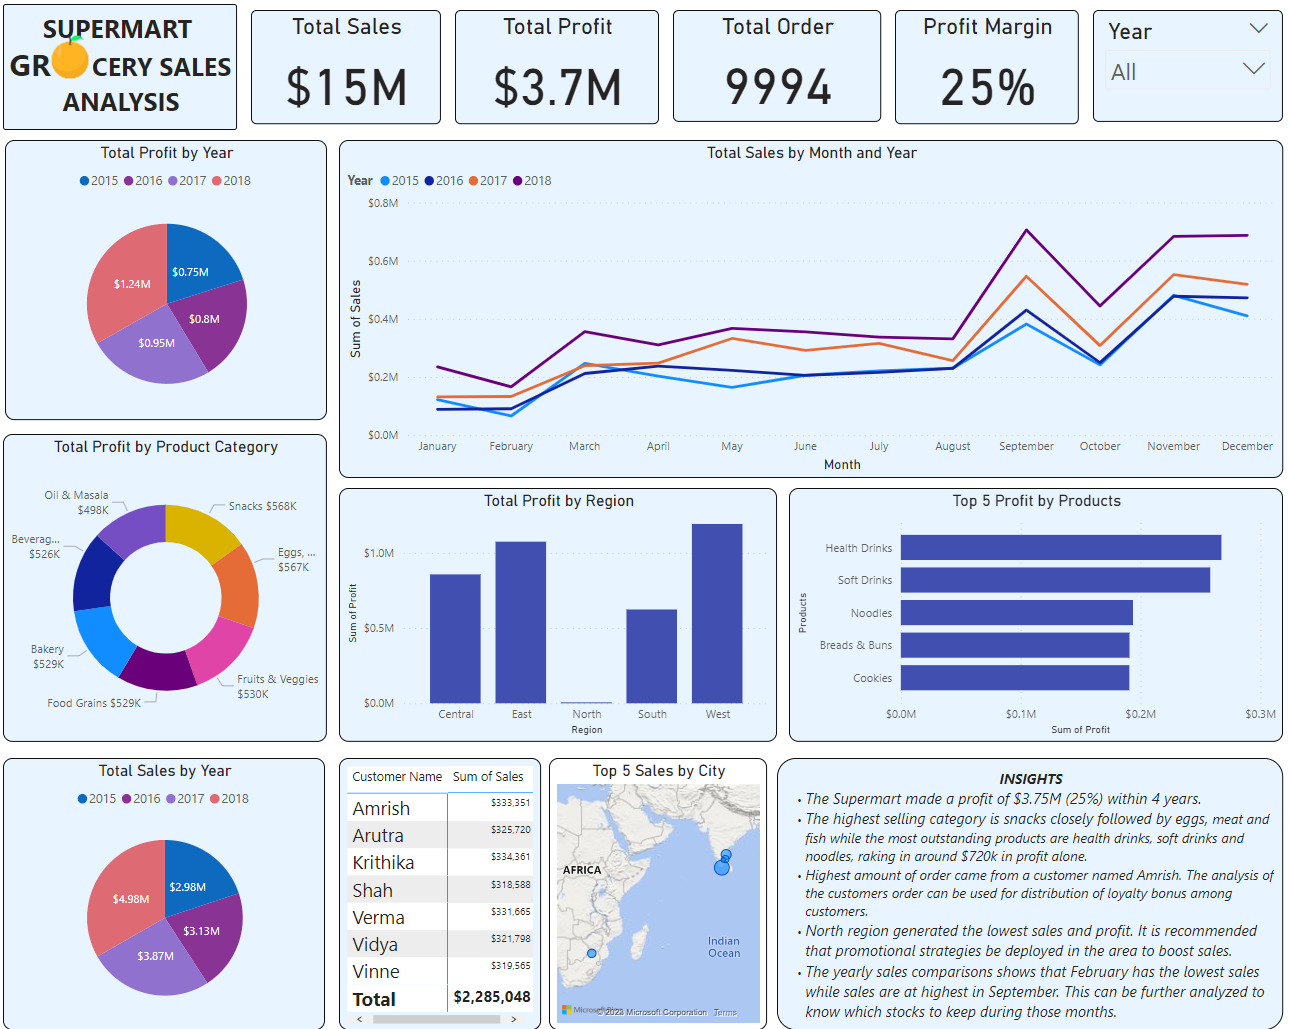

The page's visual inventory and layout, read from the dashboard file:
{"tool":"powerbi","page":{"name":"Page 1","canvas":[1380,1100],"ordinal":0},"visuals":[{"type":"card","title":"Total Sales","fields":{"Values":["Orders.Sales"]},"box":[274.5,14.9,202.1,121.3],"z":0},{"type":"card","title":"Total Profit","fields":{"Values":["Orders.Profit"]},"box":[491.5,14.9,217,121.3],"z":1000},{"type":"donutChart","title":"Total Profit by Product Category","fields":{"Category":["Products.Product_Category"],"Y":["Orders.Profit"]},"box":[10.6,466,344.7,327.7],"z":2000},{"type":"card","title":"Profit Margin","fields":{"Values":["Customers.Profit Margin"]},"box":[959.6,14.9,195.7,121.3],"z":3000},{"type":"lineChart","title":"Total Sales by Month and Year","fields":{"Y":["Orders.Sales"],"Series":["Orders.Order Date.Variation.Date Hierarchy.Year"],"Category":["Orders.Order Date.Variation.Date Hierarchy.Year","Orders.Order Date.Variation.Date Hierarchy.Month"]},"box":[368.1,153.2,1004.3,359.6],"z":4000},{"type":"card","title":"Total Order","fields":{"Values":["Orders.Order ID"]},"box":[723.4,14.9,221.3,119.1],"z":5000},{"type":"pieChart","title":"Total Profit by Year","fields":{"Category":["Orders.Order Date.Variation.Date Hierarchy.Year"],"Y":["Orders.Profit"]},"box":[12.8,153.2,342.6,297.9],"z":6000},{"type":"pieChart","title":"Total Sales by Year","fields":{"Y":["Orders.Sales"],"Category":["Orders.Order Date.Variation.Date Hierarchy.Year"]},"box":[10.6,810.6,342.6,289.4],"z":7000},{"type":"map","title":"Top 5 Sales by City","fields":{"Category":["Customers.City"],"Size":["Orders.Sales"]},"box":[591.5,810.6,231.9,289.4],"z":8000},{"type":"clusteredColumnChart","title":"Total Profit by Region","fields":{"Y":["Orders.Profit"],"Category":["Orders.Region"]},"box":[368.1,523.4,466,270.2],"z":9000},{"type":"pivotTable","fields":{"Rows":["Customers.Customer Name"],"Values":["Orders.Sales"]},"box":[368.1,810.6,214.9,289.4],"z":11000},{"type":"textbox","box":[834,810.6,538.3,289.4],"z":12000},{"type":"barChart","title":"Top 5 Profit by Products","fields":{"Category":["Products.Products"],"Y":["Orders.Profit"]},"box":[846.8,523.4,525.5,270.2],"z":13000},{"type":"slicer","fields":{"Values":["Orders.Order Date.Variation.Date Hierarchy.Year"]},"box":[1170.2,14.9,202.1,119.1],"z":14000},{"type":"textbox","box":[10.6,8.5,248.9,134],"z":15000},{"type":"image","box":[53.2,36.2,57.4,57.4],"z":16000}]}

Visuals, with their boxes in screenshot pixels (x1, y1, x2, y2), scaled from the page's 1380x1100 canvas onto the 1290x1029 screenshot:
"Total Sales" card: select_region(257, 14, 446, 127)
"Total Profit" card: select_region(459, 14, 662, 127)
"Total Profit by Product Category" donutChart: select_region(10, 436, 332, 742)
"Profit Margin" card: select_region(897, 14, 1080, 127)
"Total Sales by Month and Year" lineChart: select_region(344, 143, 1283, 480)
"Total Order" card: select_region(676, 14, 883, 125)
"Total Profit by Year" pieChart: select_region(12, 143, 332, 422)
"Total Sales by Year" pieChart: select_region(10, 758, 330, 1028)
"Top 5 Sales by City" map: select_region(553, 758, 770, 1028)
"Total Profit by Region" clusteredColumnChart: select_region(344, 490, 780, 742)
pivotTable - Customers.Customer Name x Orders.Sales: select_region(344, 758, 545, 1028)
textbox: select_region(780, 758, 1283, 1028)
"Top 5 Profit by Products" barChart: select_region(792, 490, 1283, 742)
slicer - Orders.Order Date.Variation.Date Hierarchy.Year: select_region(1094, 14, 1283, 125)
textbox: select_region(10, 8, 243, 133)
image: select_region(50, 34, 103, 88)
